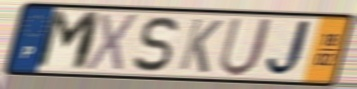J: (264, 19, 318, 80)
K: (176, 17, 225, 75)
M: (31, 9, 104, 74)
S: (130, 15, 180, 74)
U: (216, 16, 276, 79)
X: (84, 11, 141, 74)
